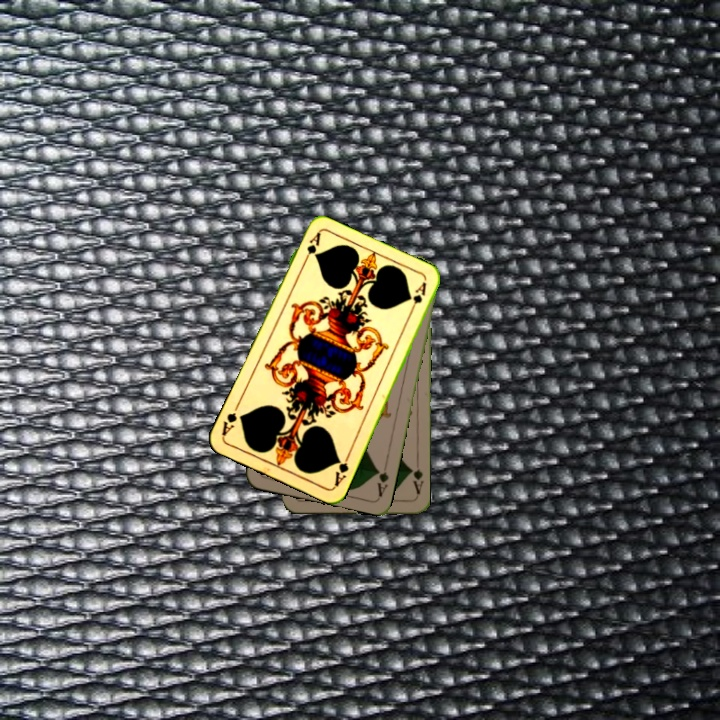GA: (299, 229, 323, 267), (330, 450, 352, 489), (372, 459, 391, 499), (406, 464, 426, 497)
